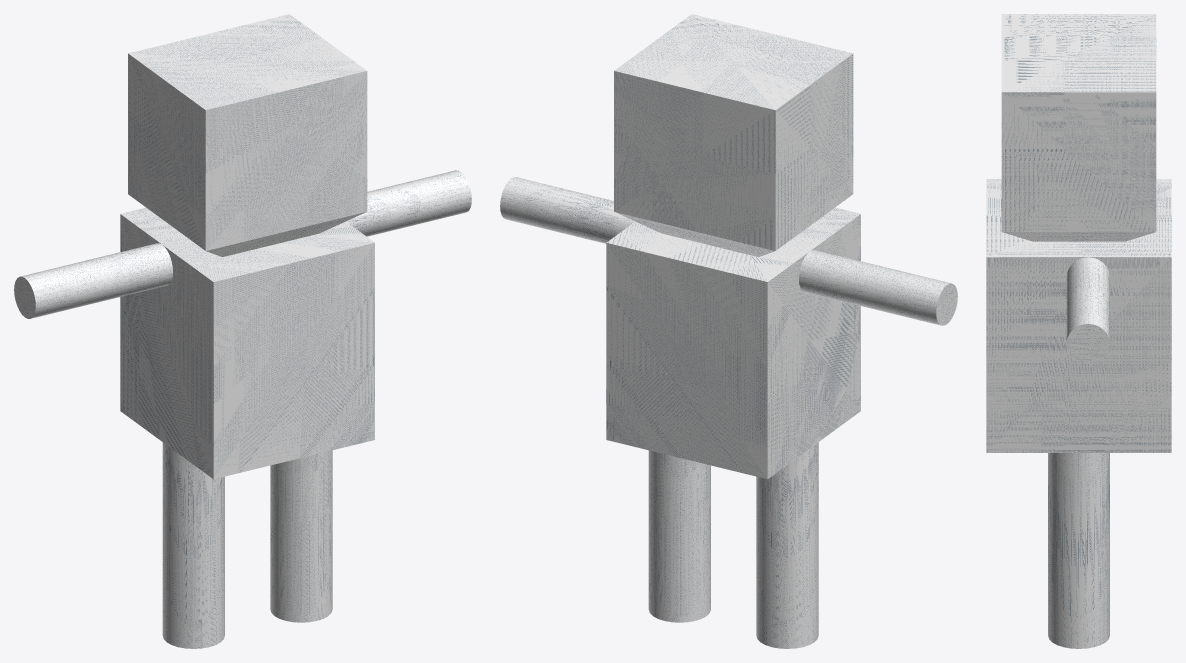
File: character4.fbx
3 views of the same model, side by side, from view 1: azimuth 30°, elevation 25°; view 2: azimuth 150°, elevation 25°; view 3: azimuth 270°, elevation 25° (orthographic).
Parts seen in each view (by area): view 1: Component_4_1, Group2, Component_1_1, Component_1_2, Component_5_1, Component_5_2; view 2: Component_4_1, Group2, Component_1_1, Component_1_2, Component_5_1, Component_5_2; view 3: Component_4_1, Group2, Component_1_2, Component_5_2.
Boxes of the visible parts, x1=… form: Component_4_1: x1=120, y1=207, x2=374, y2=479; Group2: x1=128, y1=14, x2=367, y2=256; Component_1_1: x1=162, y1=442, x2=224, y2=648; Component_1_2: x1=270, y1=450, x2=332, y2=622; Component_5_1: x1=14, y1=243, x2=172, y2=318; Component_5_2: x1=346, y1=170, x2=471, y2=236; Component_4_1: x1=606, y1=207, x2=860, y2=479; Group2: x1=614, y1=14, x2=853, y2=256; Component_1_1: x1=756, y1=442, x2=818, y2=648; Component_1_2: x1=648, y1=450, x2=710, y2=622; Component_5_1: x1=799, y1=250, x2=957, y2=325; Component_5_2: x1=500, y1=177, x2=634, y2=243; Component_4_1: x1=986, y1=179, x2=1171, y2=452; Group2: x1=1001, y1=14, x2=1156, y2=241; Component_1_2: x1=1048, y1=453, x2=1109, y2=648; Component_5_2: x1=1066, y1=257, x2=1109, y2=362.
Size of the model in its own units: 162 by 199 by 60.
